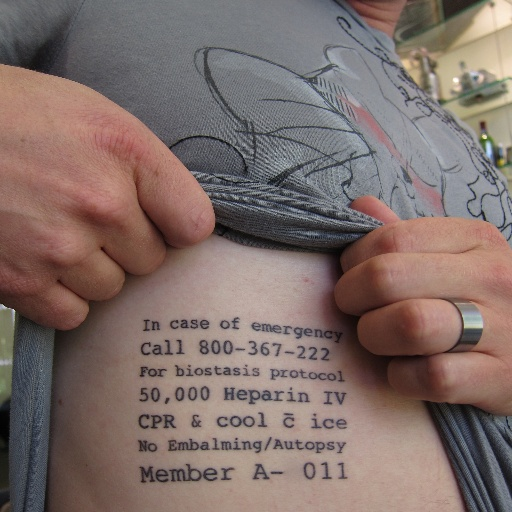hand: (0, 47, 229, 343), (335, 195, 511, 415)
